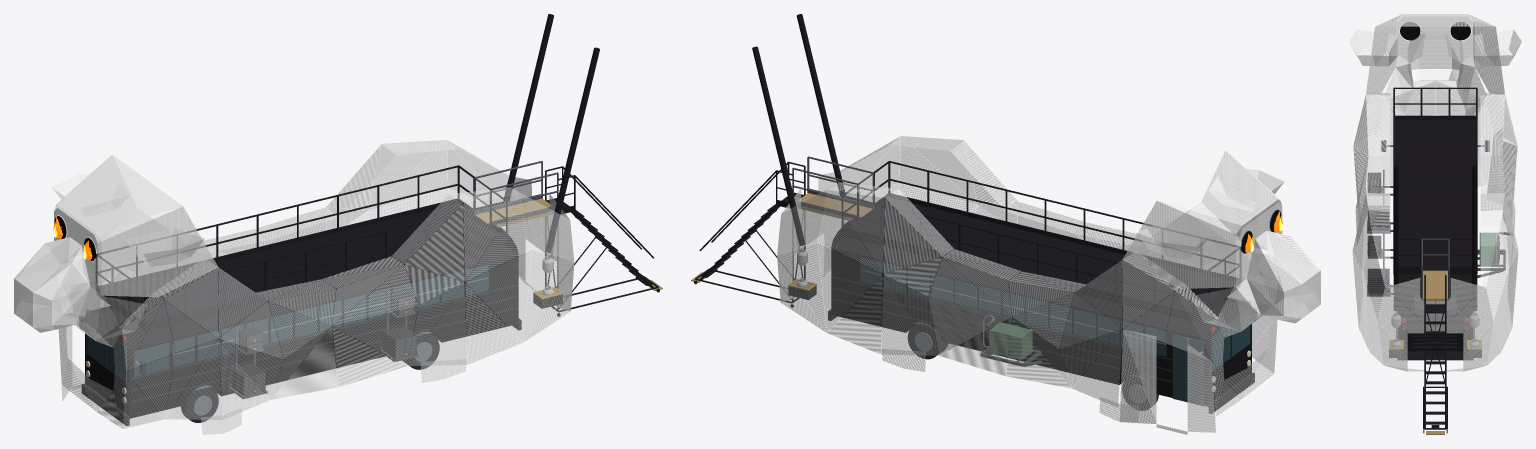
The model's file is baaabs-panelized-v20.glb.
3 renders of one model, left to right at view 1: azimuth 30°, elevation 25°; view 2: azimuth 150°, elevation 25°; view 3: azimuth 270°, elevation 25°, orthographic. The views are drawn at different scales.
Parts seen in each view (by area): view 1: Bus__Body_96in_wide, H-D-014 | Driver head side upper, H-D-001 | Driver continuous side, B-D-054 | Driver Skirt 07 b, B-D-050 | Driver Skirt 05 b, B-D-051 | Driver Skirt 06 a, B-D-043 | Driver Skirt 02 a, B-D-036 | Driver Flank 06 b, B-D-038 | Driver Flank 07 b, B-D-053 | Driver Skirt 07 a, B-D-049 | Driver Skirt 05 a, B-D-047 | Driver Skirt 04 a (+76 smaller); view 2: Bus__Body_96in_wide, H-P-014 | Passenger head side upper, H-P-001 | Passenger continuous side, B-P-062 | Passenger Skirt 07 b, B-P-058 | Passenger Skirt 05 b, B-P-059 | Passenger Skirt 06 a, B-P-044 | Passenger Flank 06 b, B-P-046 | Passenger Flank 07 b, B-P-061 | Passenger Skirt 07 a, B-P-057 | Passenger Skirt 05 a, B-P-055 | Passenger Skirt 04 a, B-D-038 | Driver Flank 07 b (+76 smaller); view 3: Bus__Body_96in_wide, Bus__Rear_engine_hatch, Dancefloor_section_03, Dancefloor_section_01, Dancefloor_section_02, B-D-059 | Driver Rear surround 06 a, B-P-015 | Passenger Rear surround 05 a, Dancefloor_section_08, Dancefloor_section_04, F-C-005 | Center F nose front, Dancefloor_section_12, Dancefloor_section_05 (+117 smaller).
Boxes of the visible parts, x1,y1,x2,y2 form: Bus__Body_96in_wide: (85, 244, 518, 418); H-D-014 | Driver head side upper: (101, 206, 209, 263); H-D-001 | Driver continuous side: (101, 253, 218, 297); B-D-054 | Driver Skirt 07 b: (465, 250, 532, 341); B-D-050 | Driver Skirt 05 b: (333, 306, 418, 365); B-D-051 | Driver Skirt 06 a: (408, 283, 467, 365); B-D-043 | Driver Skirt 02 a: (165, 339, 222, 419); B-D-036 | Driver Flank 06 b: (405, 204, 464, 281); B-D-038 | Driver Flank 07 b: (463, 195, 521, 280); B-D-053 | Driver Skirt 07 a: (465, 283, 522, 364); B-D-049 | Driver Skirt 05 a: (332, 326, 406, 386); B-D-047 | Driver Skirt 04 a: (271, 327, 337, 399); Bus__Body_96in_wide: (831, 237, 1251, 406); H-P-014 | Passenger head side upper: (1130, 201, 1235, 256); H-P-001 | Passenger continuous side: (1122, 246, 1235, 288); B-P-062 | Passenger Skirt 07 b: (818, 243, 882, 331); B-P-058 | Passenger Skirt 05 b: (928, 297, 1011, 355); B-P-059 | Passenger Skirt 06 a: (881, 276, 938, 355); B-P-044 | Passenger Flank 06 b: (883, 199, 941, 273); B-P-046 | Passenger Flank 07 b: (828, 190, 884, 272); B-P-061 | Passenger Skirt 07 a: (827, 276, 883, 353); B-P-057 | Passenger Skirt 05 a: (940, 317, 1011, 375); B-P-055 | Passenger Skirt 04 a: (1006, 317, 1070, 387); B-D-038 | Driver Flank 07 b: (902, 136, 977, 204); Bus__Body_96in_wide: (1397, 274, 1473, 350); Bus__Rear_engine_hatch: (1408, 325, 1462, 351); Dancefloor_section_03: (1395, 144, 1475, 157); Dancefloor_section_01: (1395, 119, 1475, 132); Dancefloor_section_02: (1395, 132, 1475, 144); B-D-059 | Driver Rear surround 06 a: (1385, 278, 1435, 331); B-P-015 | Passenger Rear surround 05 a: (1435, 278, 1485, 331); Dancefloor_section_08: (1399, 207, 1471, 220); Dancefloor_section_04: (1395, 157, 1475, 169); F-C-005 | Center F nose front: (1419, 39, 1451, 68); Dancefloor_section_12: (1393, 258, 1477, 274); Dancefloor_section_05: (1399, 170, 1471, 182).
Size of the model in its own units: 19.95 by 8.42 by 5.52.
232 materials, 206 textured.
